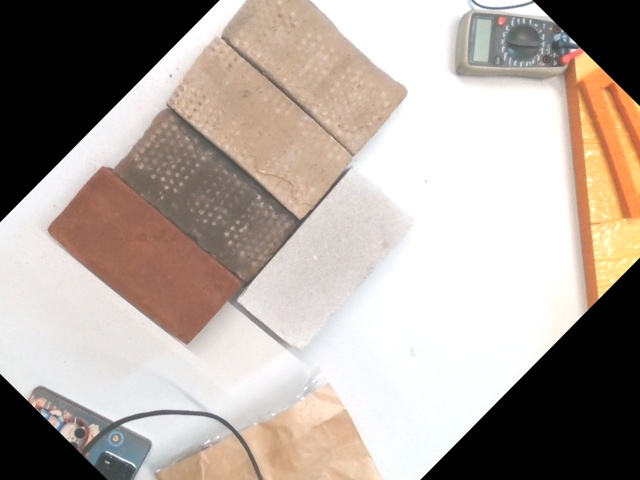brick: (167, 38, 357, 218), (237, 165, 414, 354), (112, 107, 299, 285), (50, 167, 237, 345), (223, 0, 413, 154)
